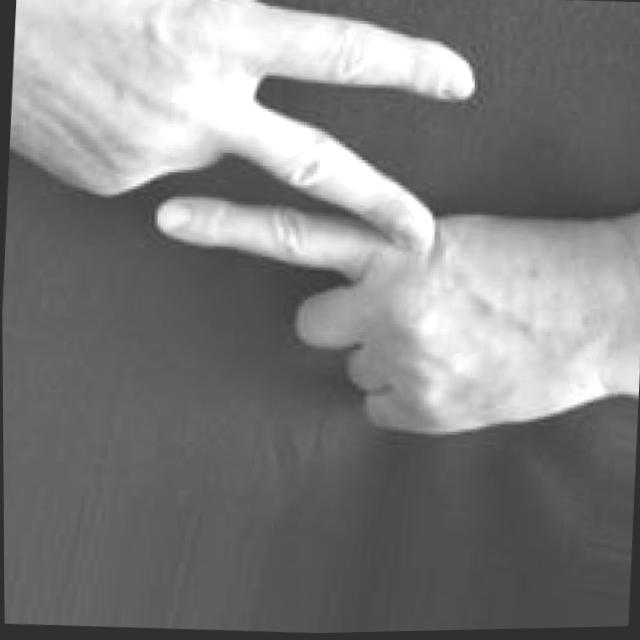Z: (0, 0, 640, 454)
